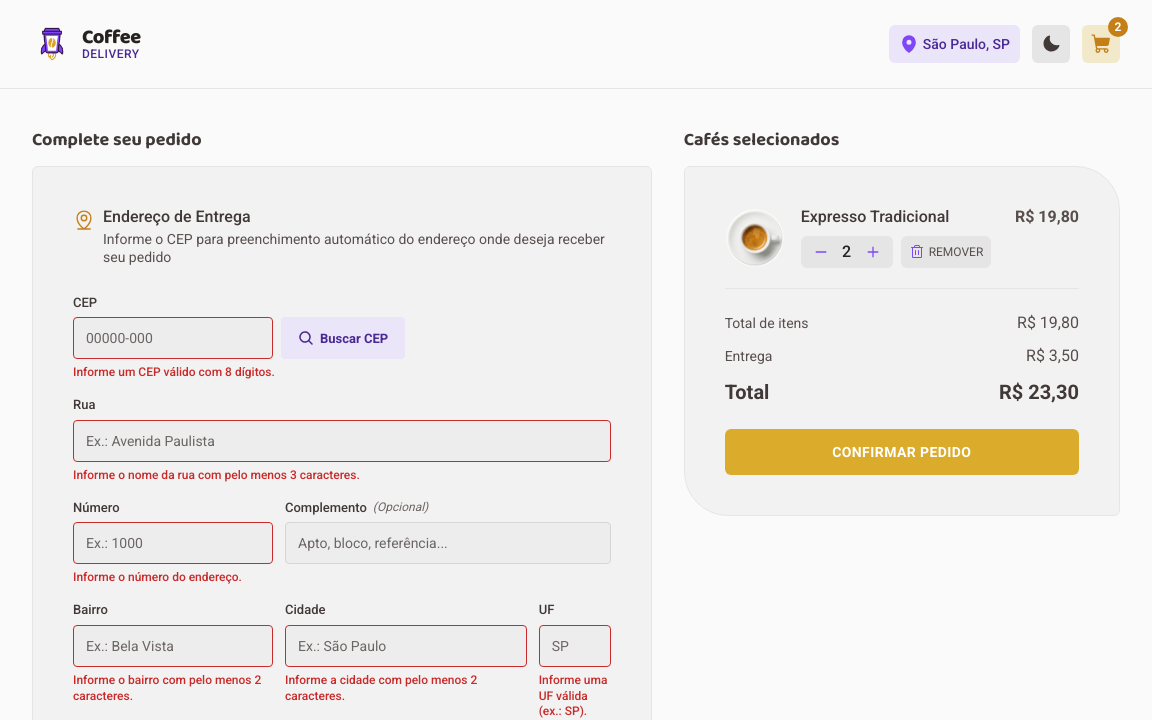
Test case: Fluxos completos da SPA Coffee Delivery › executa fluxo completo Checkout com ViaCEP, validação, limpeza do carrinho e snapshot na confirmação
This screenshot has width=1152, height=720.
Earlier steps of the test are not shown.
Later steps or results of the test are not shown.
Expected: the text "Informe um CEP válido com 8 dígitos." is shown, [73,366,275,380]
Type "01310100" into the field labelled "CEP".
click(173, 338); type("01310100")  # box [73,318,273,360]
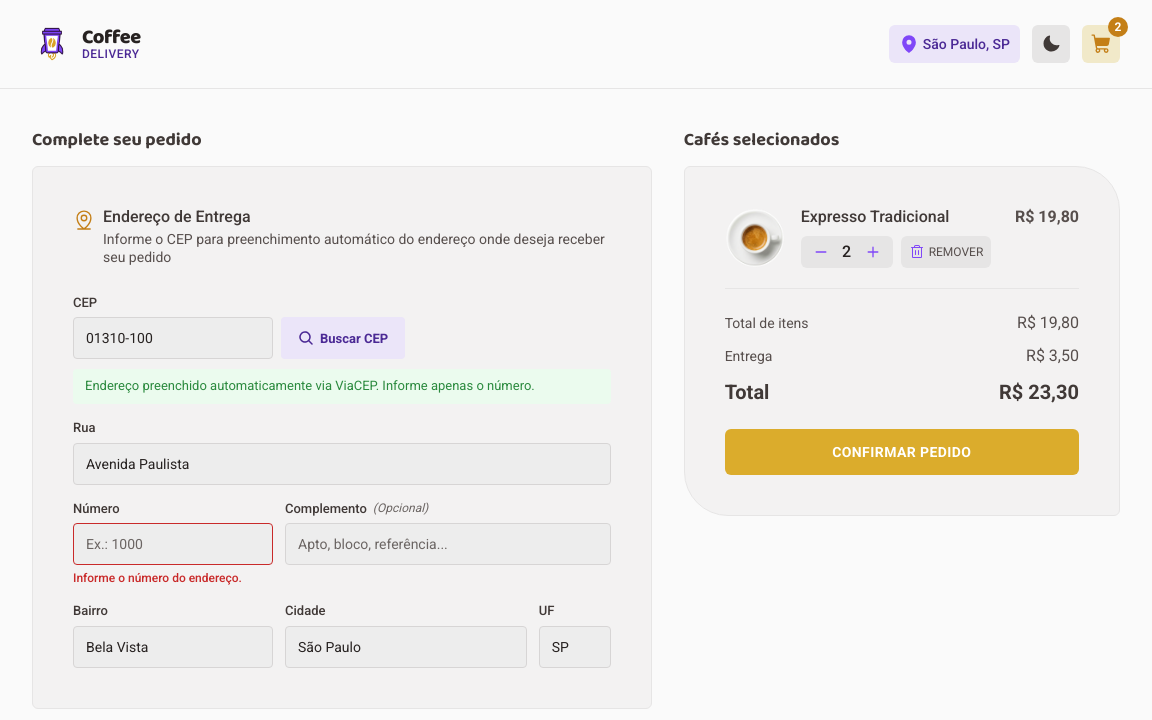
Result: the field labelled "Rua" holds "Avenida Paulista" at [73,442,611,484]
Result: the field labelled "Bairro" holds "Bela Vista" at [73,626,273,668]
Result: the field labelled "Cidade" holds "São Paulo" at [285,626,527,668]
Type "1578" into the field labelled "Número".
click(173, 544); type("1578")  # box [73,523,273,565]
(page scrolled)
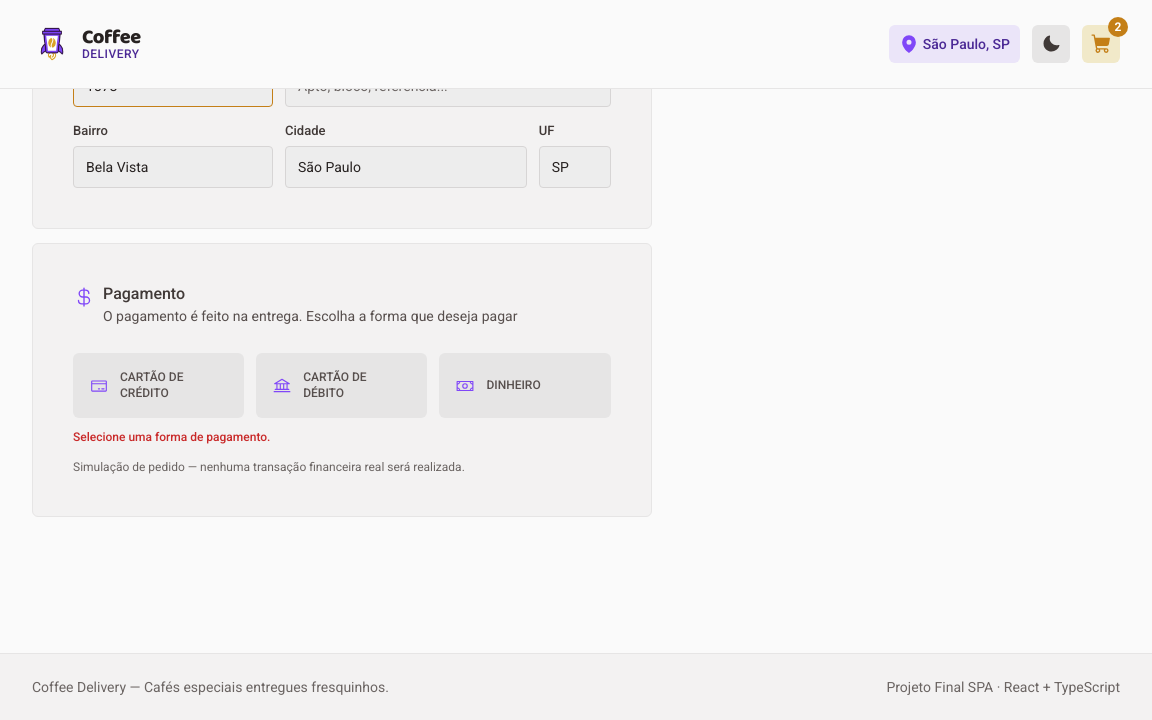
Click the radio button labelled "Cartão de Crédito".
click(159, 386)  # box [73,353,244,418]
(page scrolled)
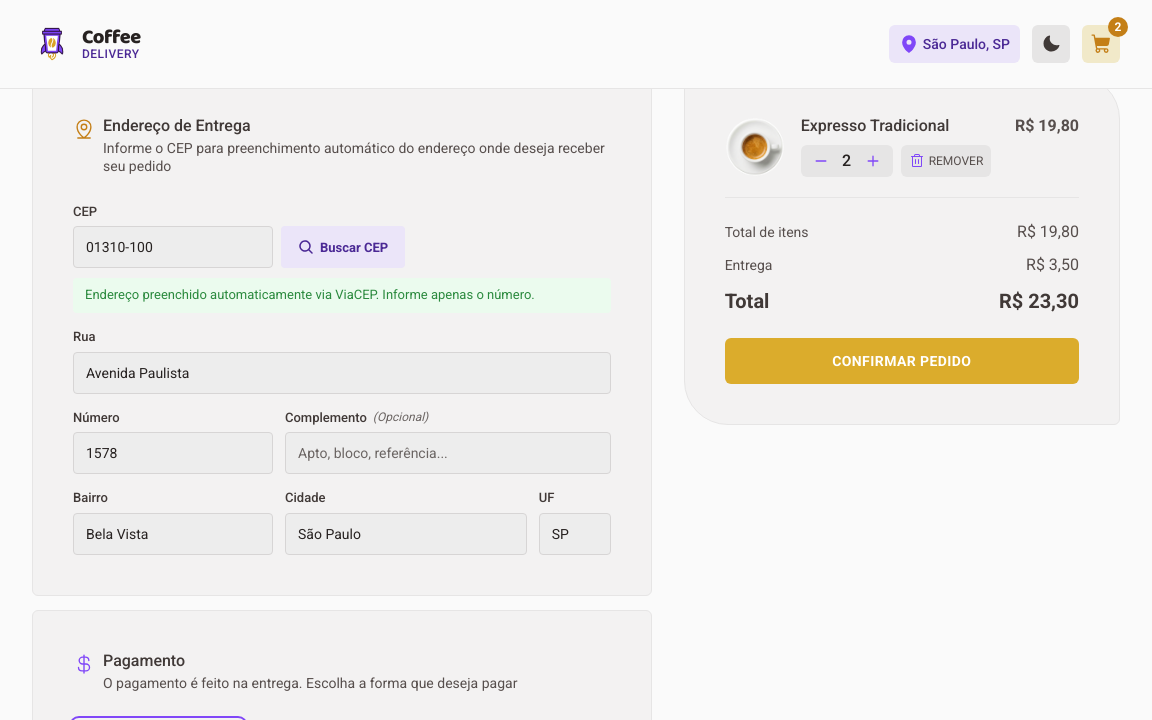
Click the button "Confirmar Pedido".
click(902, 361)  # box [725,338,1079,384]
(page scrolled)
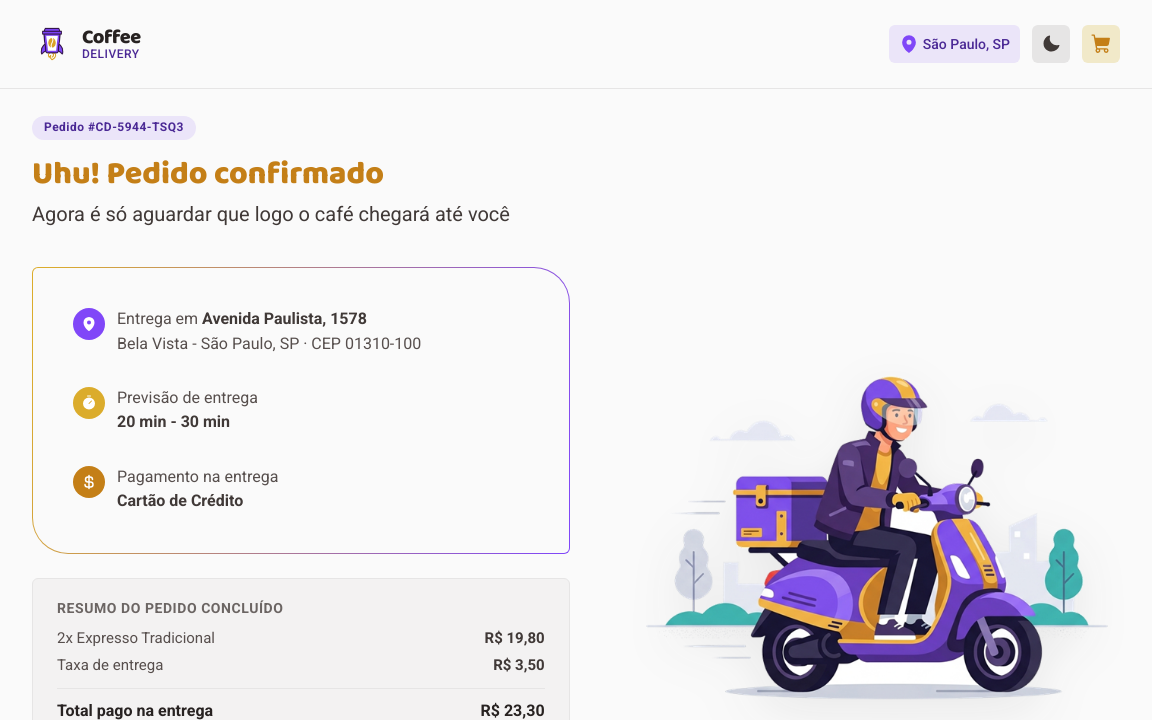
Result: the heading "Uhu! Pedido confirmado" is shown at [32,149,384,200]
Result: the text "Avenida Paulista, 1578" is shown at [202,309,367,328]
Result: the text "Bela Vista - São Paulo, SP · CEP 01310-100" is shown at [117,333,421,355]
